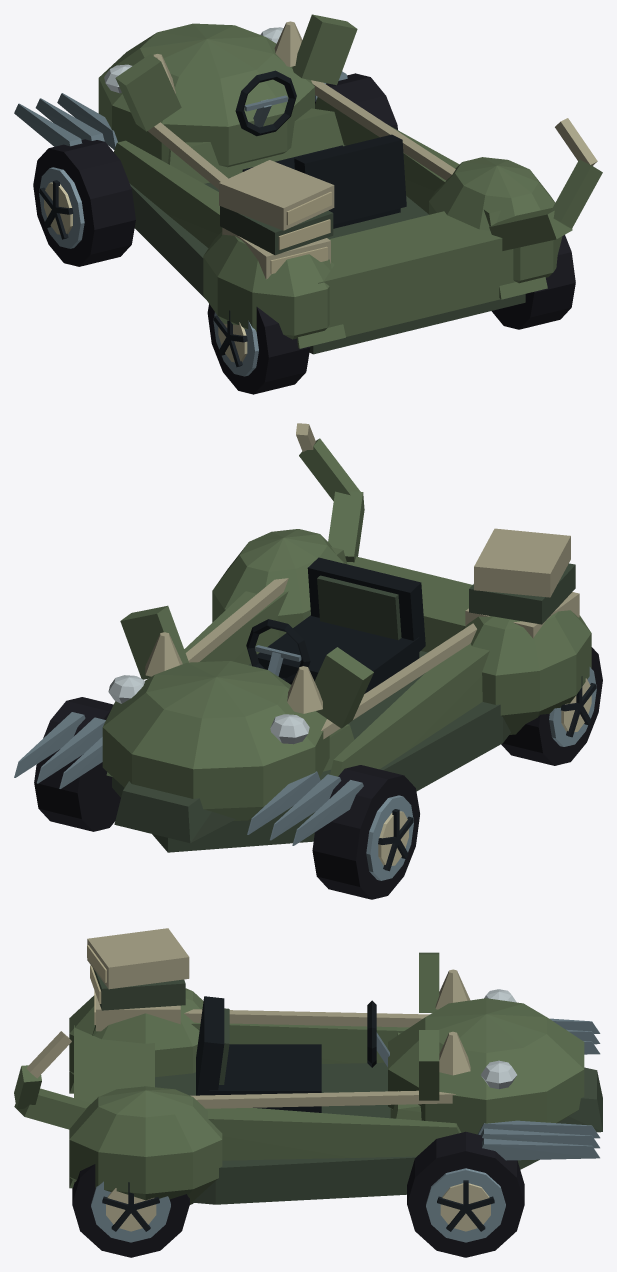
Rendered from kart.glb.
The picture shows the model from 3 angles, top to bottom: view 1: azimuth 30°, elevation 25°; view 2: azimuth 150°, elevation 25°; view 3: azimuth 270°, elevation 25°; orthographic projection. The views are drawn at different scales.
Parts seen in each view (by area): view 1: identity-beast-beast-sculpted-prow-and-haunches, wheel-front-left, identity-beast-motif-books, identity-beast-driver-cockpit, wheel-rear-left, identity-beast-motif-tail, identity-beast-motif-claws, wheel-rear-right, wheel-front-right; view 2: identity-beast-beast-sculpted-prow-and-haunches, identity-beast-driver-cockpit, wheel-front-left, identity-beast-motif-books, identity-beast-motif-claws, wheel-front-right, wheel-rear-left, identity-beast-motif-tail; view 3: identity-beast-beast-sculpted-prow-and-haunches, wheel-front-right, identity-beast-driver-cockpit, identity-beast-motif-books, wheel-rear-right, identity-beast-motif-claws, identity-beast-motif-tail.
Boxes of the visible parts, left/top/right/bottom form: identity-beast-beast-sculpted-prow-and-haunches: left=98, top=14, right=562, bottom=354; wheel-front-left: left=33, top=139, right=135, bottom=266; identity-beast-motif-books: left=219, top=160, right=334, bottom=279; identity-beast-driver-cockpit: left=235, top=70, right=406, bottom=228; wheel-rear-left: left=207, top=304, right=310, bottom=394; identity-beast-motif-tail: left=489, top=118, right=602, bottom=250; identity-beast-motif-claws: left=14, top=71, right=347, bottom=149; wheel-rear-right: left=491, top=235, right=575, bottom=329; wheel-front-right: left=315, top=73, right=397, bottom=129; identity-beast-beast-sculpted-prow-and-haunches: left=102, top=529, right=591, bottom=852; identity-beast-driver-cockpit: left=246, top=557, right=425, bottom=693; wheel-front-left: left=312, top=765, right=419, bottom=899; identity-beast-motif-books: left=465, top=528, right=579, bottom=638; identity-beast-motif-claws: left=14, top=712, right=363, bottom=845; wheel-front-right: left=34, top=697, right=120, bottom=831; wheel-rear-left: left=501, top=647, right=602, bottom=765; identity-beast-motif-tail: left=296, top=423, right=364, bottom=562; identity-beast-beast-sculpted-prow-and-haunches: left=69, top=952, right=602, bottom=1204; wheel-front-right: left=407, top=1131, right=524, bottom=1257; identity-beast-driver-cockpit: left=196, top=996, right=389, bottom=1112; identity-beast-motif-books: left=87, top=928, right=189, bottom=1031; wheel-rear-right: left=72, top=1164, right=189, bottom=1257; identity-beast-motif-claws: left=477, top=1018, right=600, bottom=1160; identity-beast-motif-tail: left=14, top=1031, right=90, bottom=1129.
Size of the model in its own units: 2.01 by 1.3 by 3.2.
